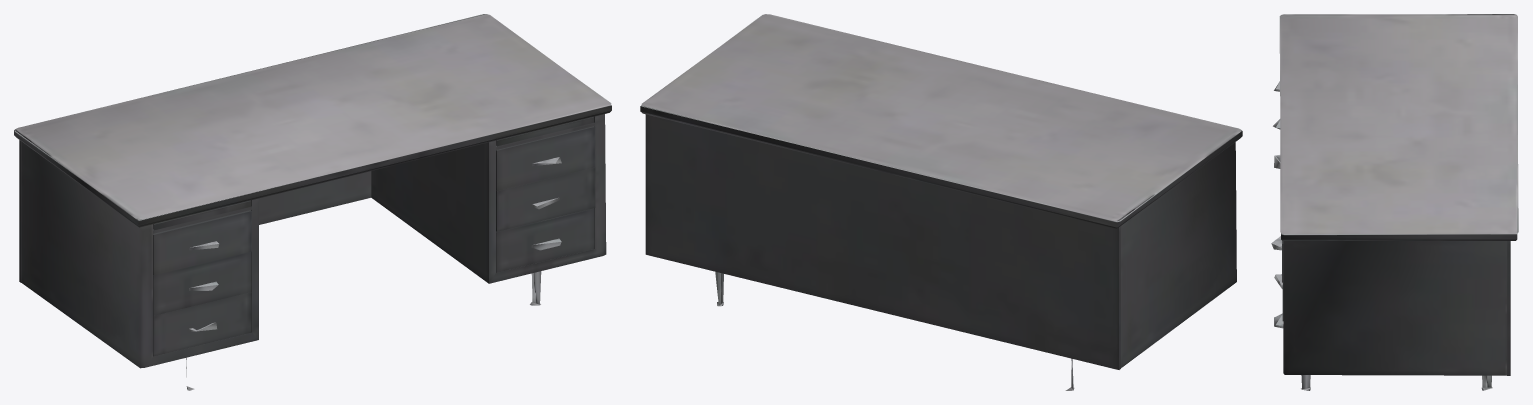
File: metal_office_desk.glb
The picture shows the model from 3 angles, left to right: view 1: azimuth 30°, elevation 25°; view 2: azimuth 150°, elevation 25°; view 3: azimuth 270°, elevation 25°; orthographic projection. The views are drawn at different scales.
Parts seen in each view (by area): view 1: metal_office_desk_drawer_06; view 2: metal_office_desk_drawer_06; view 3: metal_office_desk_drawer_06.
Boxes of the visible parts, bbox=[...] form: metal_office_desk_drawer_06: bbox=[14, 14, 611, 390]; metal_office_desk_drawer_06: bbox=[640, 14, 1242, 390]; metal_office_desk_drawer_06: bbox=[1271, 14, 1518, 390].
Bounding box in the file's own units: 1.99 × 0.7869 × 0.9443.
1 material, 1 textured.
